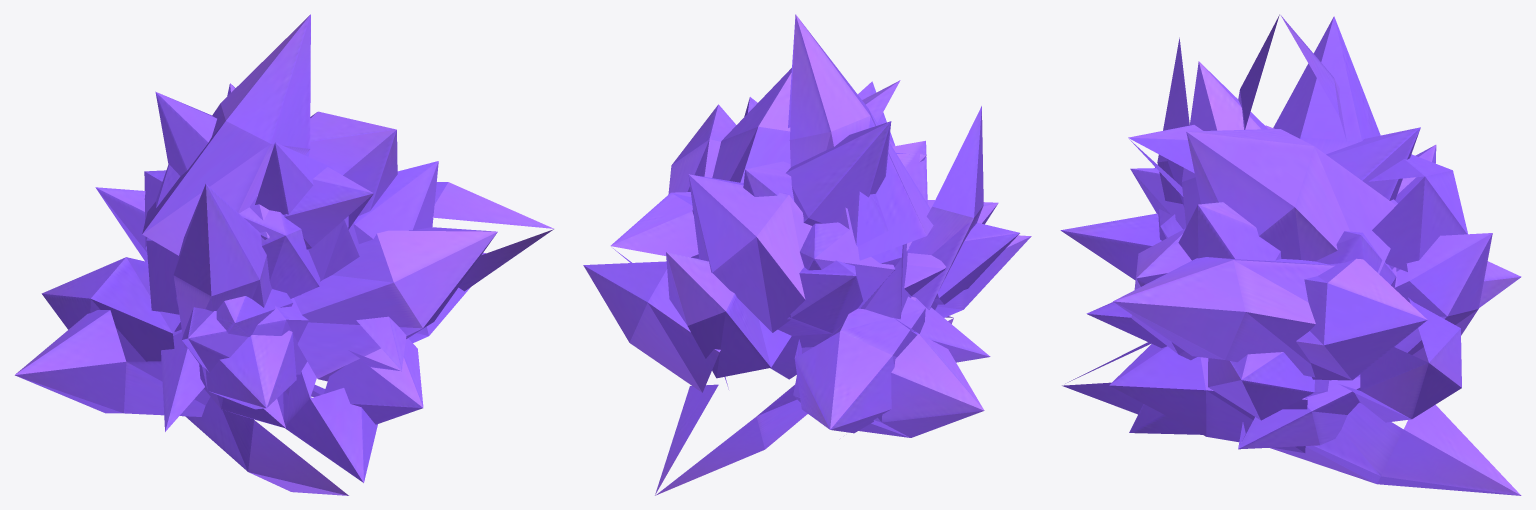
Rendered from ATT_House_Thrall_A_v01.glb.
The picture shows the model from 3 angles, left to right: view 1: azimuth 30°, elevation 25°; view 2: azimuth 150°, elevation 25°; view 3: azimuth 270°, elevation 25°; orthographic projection. The views are drawn at different scales.
Parts seen in each view (by area): view 1: ATT_House_Shoulder_L_A, ATT_House_Back_A, ATT_House_Shoulder_R_A, ATT_House_Head_A, ATT_House_Leg_R_A, ATT_House_Chest_A, ATT_House_Leg_L_A; view 2: ATT_House_Shoulder_L_A, ATT_House_Chest_A, ATT_House_Shoulder_R_A, ATT_House_Head_A, ATT_House_Back_A, ATT_House_Leg_R_A; view 3: ATT_House_Back_A, ATT_House_Chest_A, ATT_House_Shoulder_L_A, ATT_House_Head_A, ATT_House_Shoulder_R_A, ATT_House_Leg_L_A, ATT_House_Leg_R_A.
Boxes of the visible parts, bbox=[...] form: ATT_House_Shoulder_L_A: bbox=[142, 14, 497, 381]; ATT_House_Back_A: bbox=[176, 111, 553, 495]; ATT_House_Shoulder_R_A: bbox=[14, 91, 359, 416]; ATT_House_Head_A: bbox=[146, 161, 438, 363]; ATT_House_Leg_R_A: bbox=[161, 195, 406, 482]; ATT_House_Chest_A: bbox=[41, 83, 235, 361]; ATT_House_Leg_L_A: bbox=[204, 167, 373, 428]; ATT_House_Shoulder_L_A: bbox=[583, 14, 933, 392]; ATT_House_Chest_A: bbox=[610, 161, 925, 495]; ATT_House_Shoulder_R_A: bbox=[770, 80, 1019, 437]; ATT_House_Head_A: bbox=[666, 97, 983, 378]; ATT_House_Back_A: bbox=[668, 68, 1031, 323]; ATT_House_Leg_R_A: bbox=[896, 153, 990, 362]; ATT_House_Back_A: bbox=[1060, 129, 1397, 452]; ATT_House_Chest_A: bbox=[1269, 127, 1521, 495]; ATT_House_Shoulder_L_A: bbox=[1131, 14, 1467, 422]; ATT_House_Head_A: bbox=[1157, 37, 1492, 362]; ATT_House_Shoulder_R_A: bbox=[1155, 16, 1436, 287]; ATT_House_Leg_L_A: bbox=[1128, 125, 1360, 449]; ATT_House_Leg_R_A: bbox=[1086, 125, 1274, 434].
Bounding box in the file's own units: 0.1835 × 0.1861 × 0.1679.
1 material, 1 textured.
